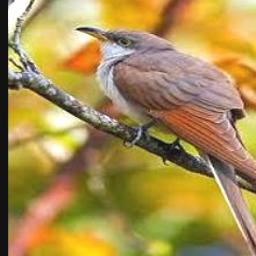Cuckoo: (76, 26, 256, 256)
